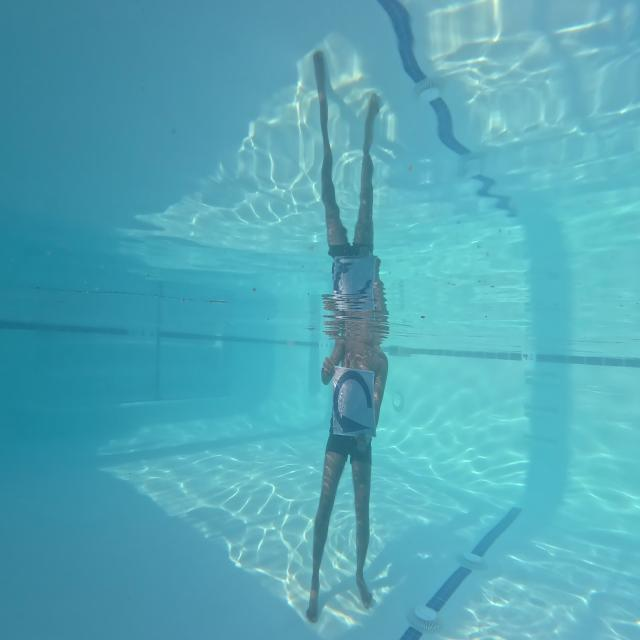blue_side: (329, 365, 374, 434)
